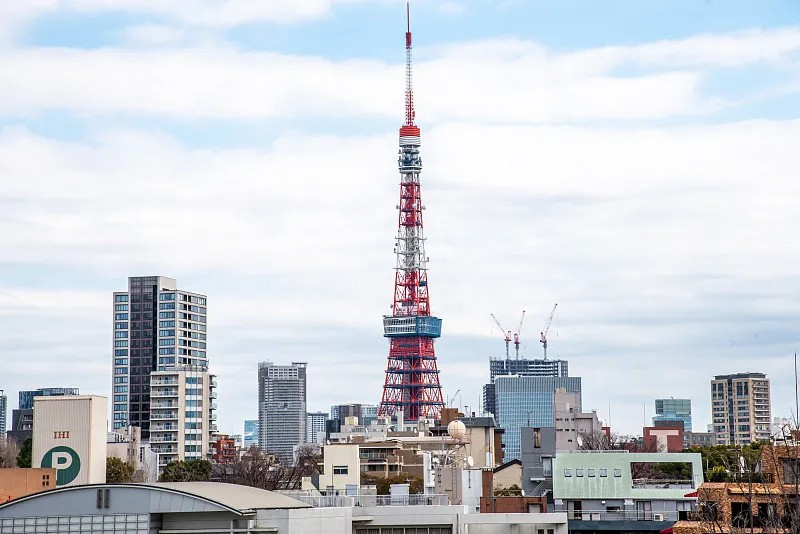Tokyo: (378, 1, 449, 429)
